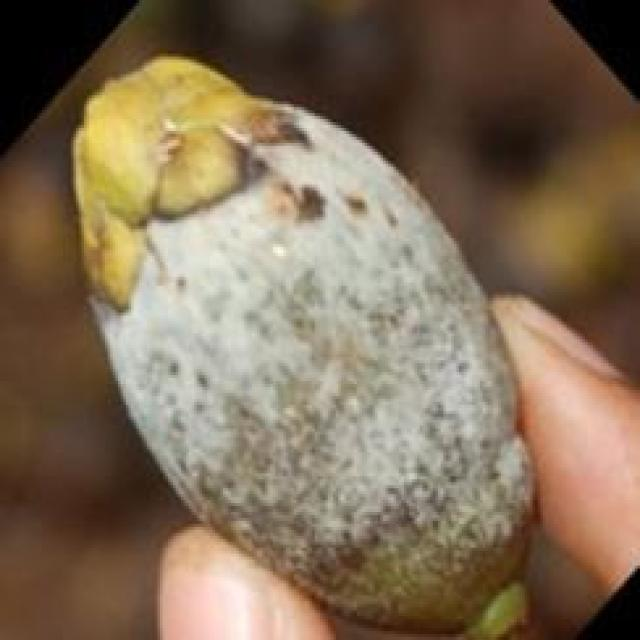damaged: (71, 57, 538, 637)
